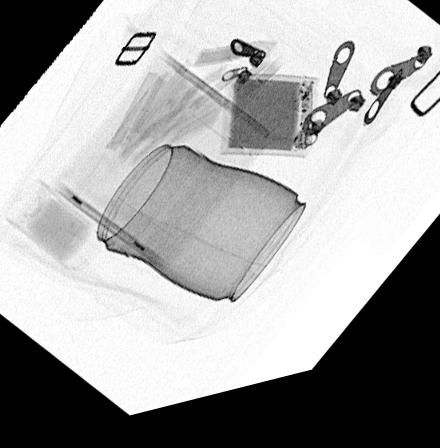Powerbank: (218, 81, 317, 172)
